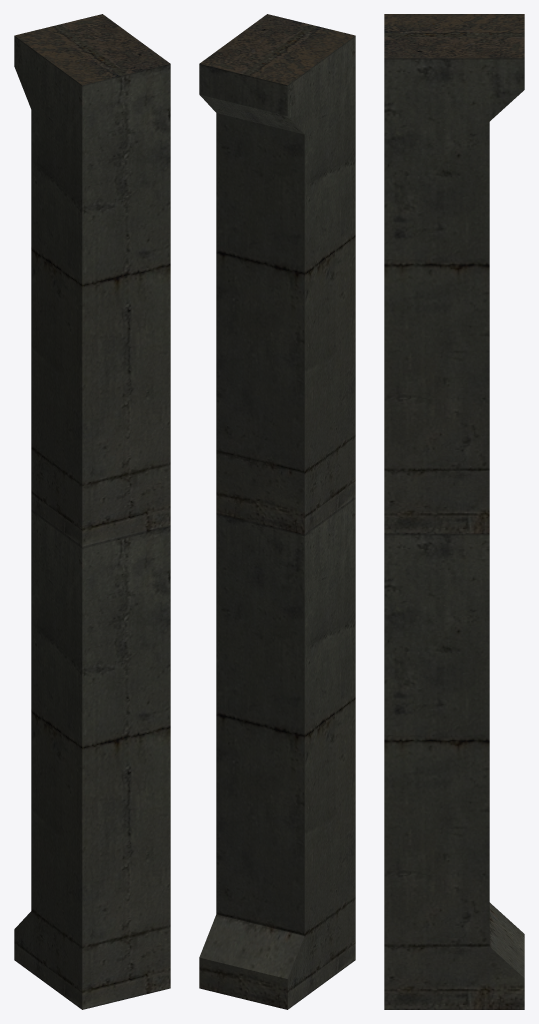
The model's file is pillar_rg_9.dae.
The picture shows the model from 3 angles, left to right: view 1: azimuth 30°, elevation 25°; view 2: azimuth 150°, elevation 25°; view 3: azimuth 270°, elevation 25°; orthographic projection. The views are drawn at different scales.
Parts seen in each view (by area): view 1: pillar_rg_9; view 2: pillar_rg_9; view 3: pillar_rg_9.
Part boxes in pixels (bbox=[...]): pillar_rg_9: bbox=[14, 14, 170, 1009]; pillar_rg_9: bbox=[199, 14, 355, 1009]; pillar_rg_9: bbox=[384, 14, 524, 1009].
Size of the model in its own units: 0.6 by 0.8 by 6.
2 materials, 2 textured.
